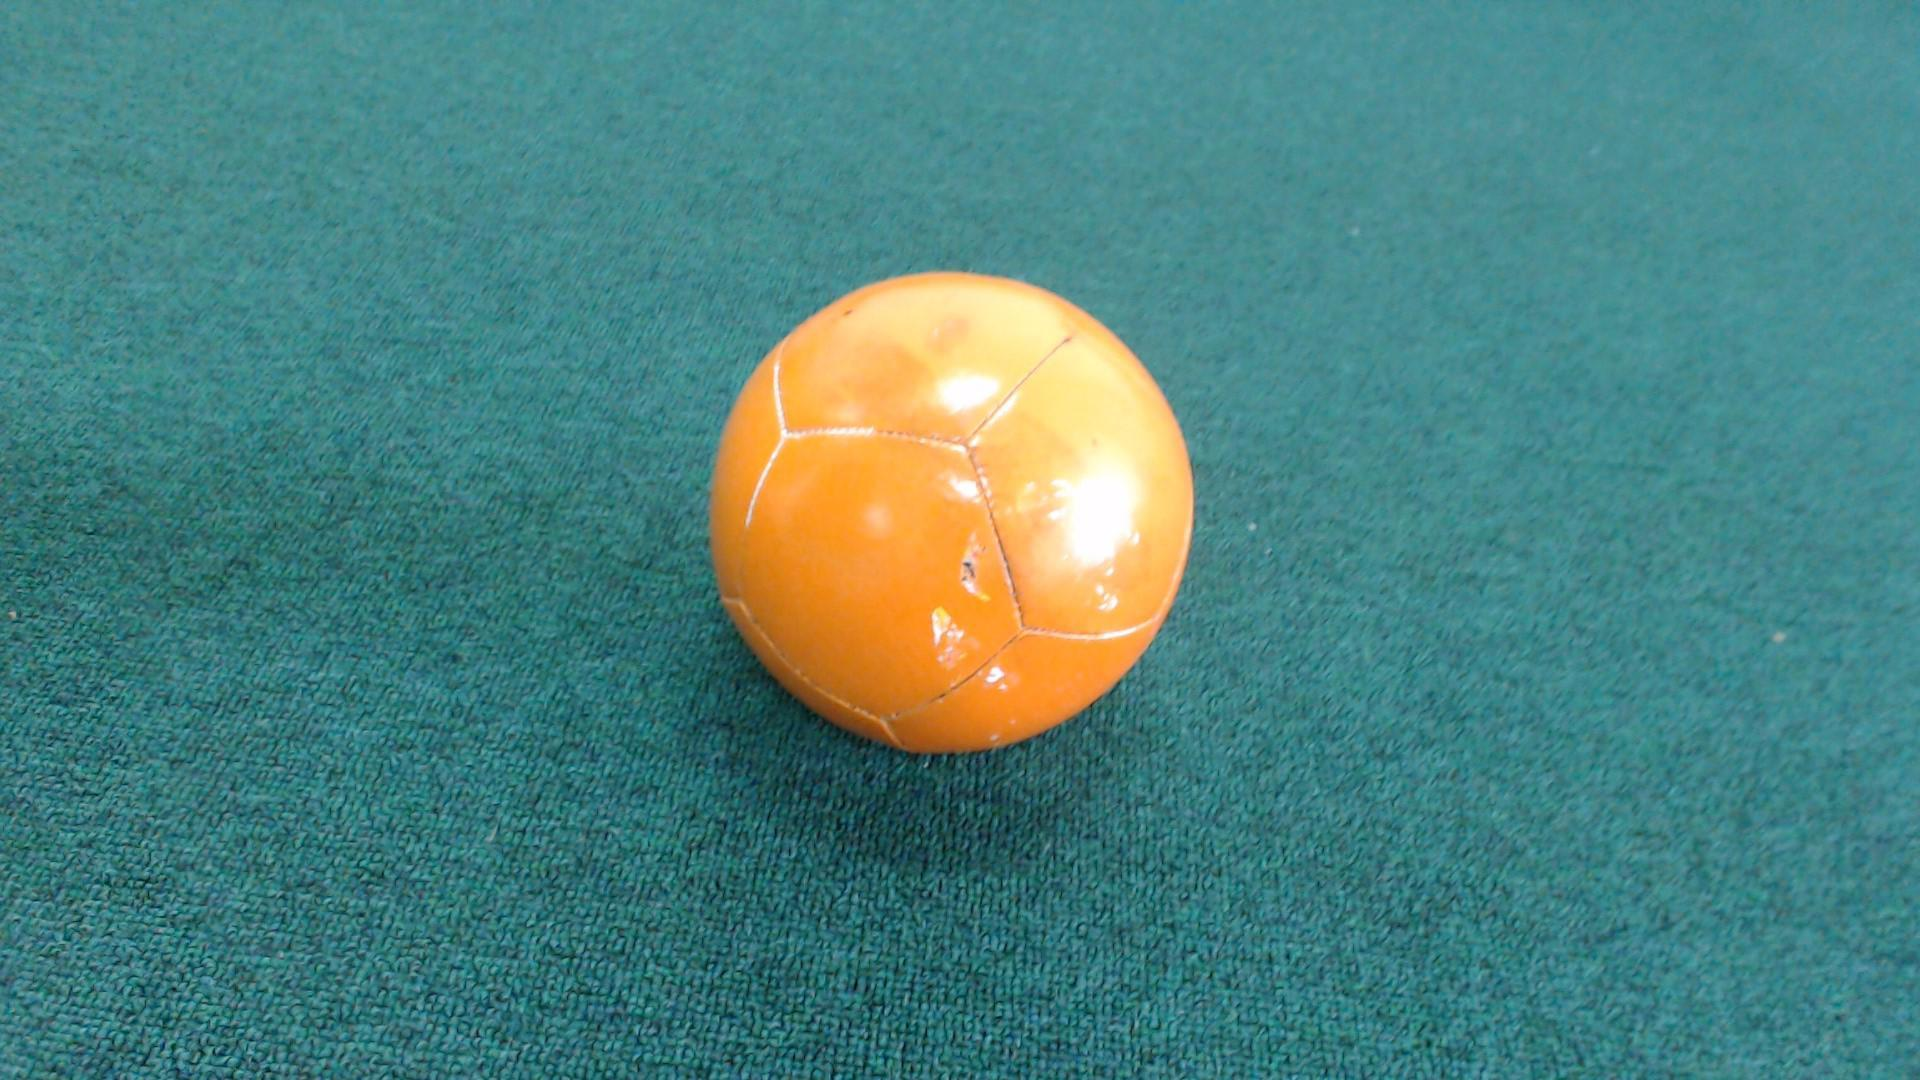bola: (676, 237, 1226, 766)
